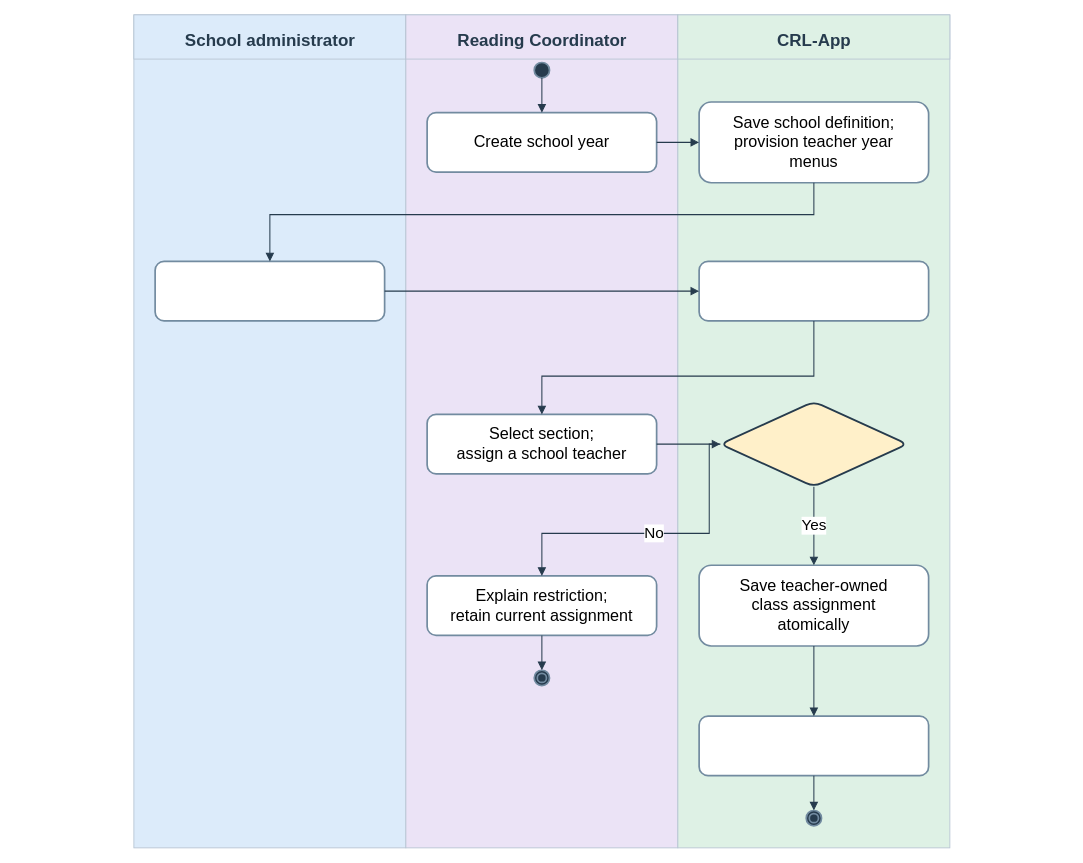
Image size: 1083x863. Some labels were removed from this diagram. Here are the shapes that lost their labels. From the top down, the centre of each, then its label:
At pixel 269 290: "Create section settings for this school year".
At pixel 813 290: "Save school-owned section definitions".
At pixel 813 443: "Same school; empty transfer?".
At pixel 813 745: "Teacher manages learners in the assigned class".
